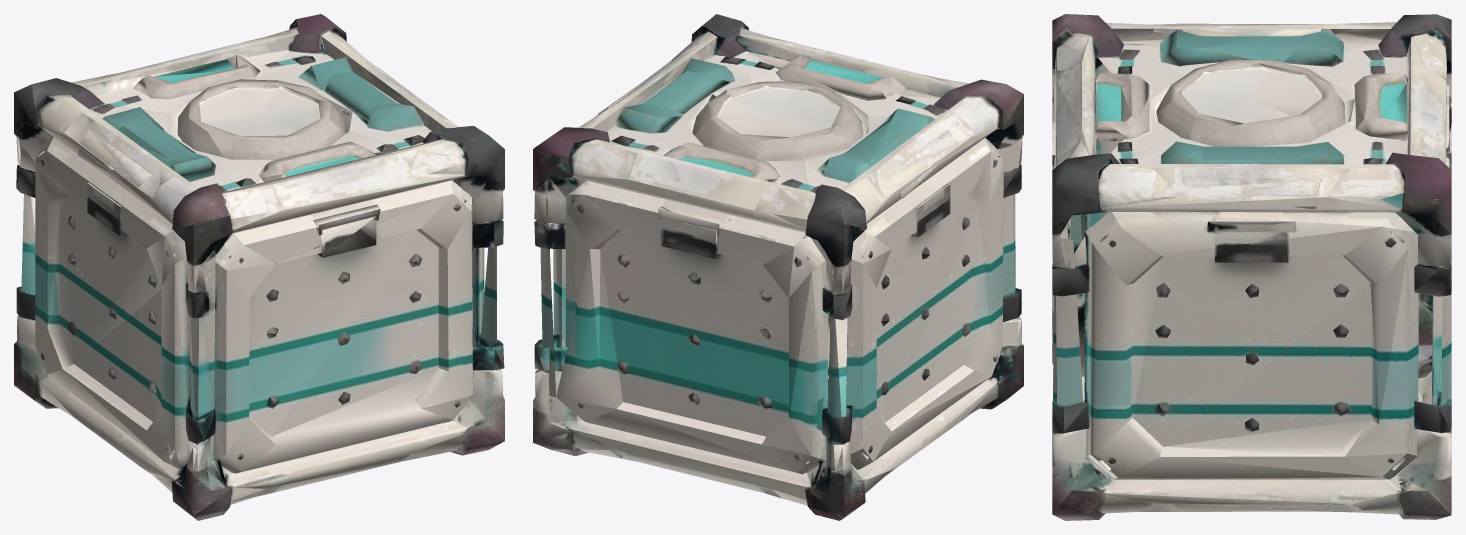
Rendered from crate.glb.
The picture shows the model from 3 angles, left to right: view 1: azimuth 30°, elevation 25°; view 2: azimuth 150°, elevation 25°; view 3: azimuth 270°, elevation 25°; orthographic projection. The views are drawn at different scales.
Size of the model in its own units: 0.724 by 0.7 by 0.724.
Materials: 1 (1 with a texture image).
